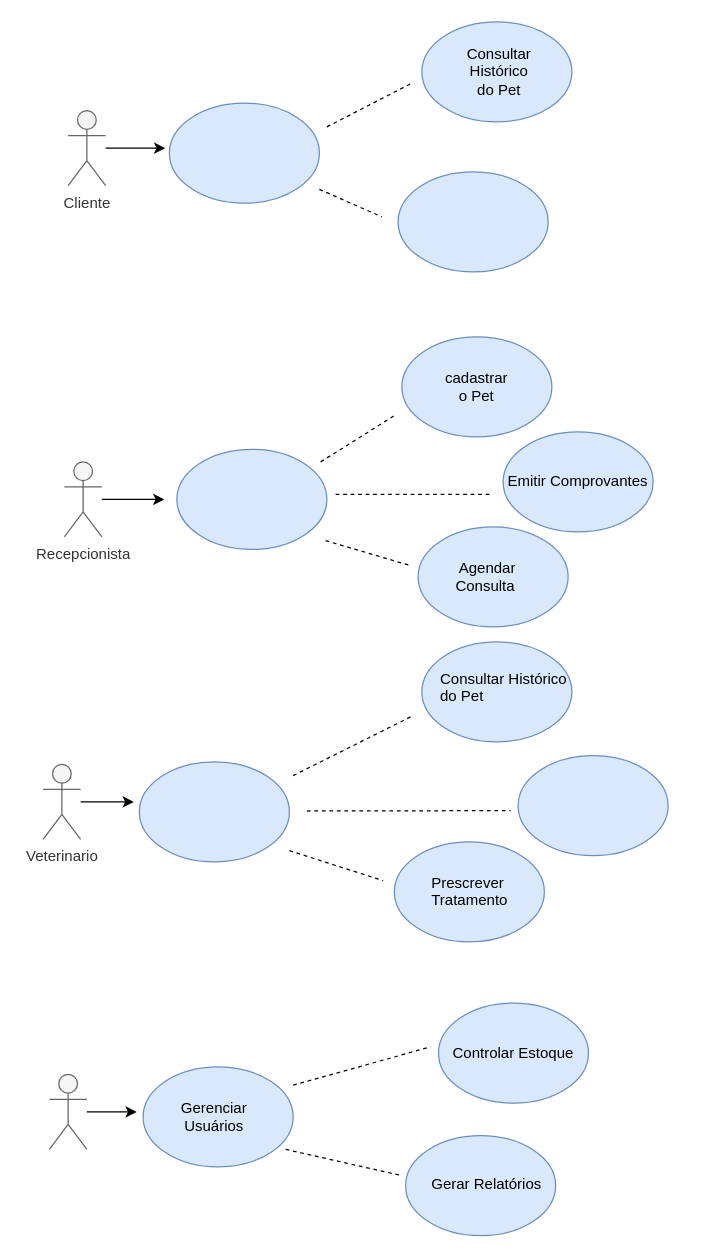
The diagram is 703 pixels wide and 1258 high, and some of its shapes have lost their labels. Here are the shapes that lost their labels. From the top down, the box of each, then its label:
(168, 102, 319, 203): Solicitar agendamento
(397, 171, 548, 272): Cancelar Consulta
(176, 448, 327, 549): Cadastrar Cliente
(138, 761, 289, 862): Realizar Atendimento
(517, 754, 668, 856): Registrar Diagnóstico
(48, 1073, 87, 1149): Administrador
